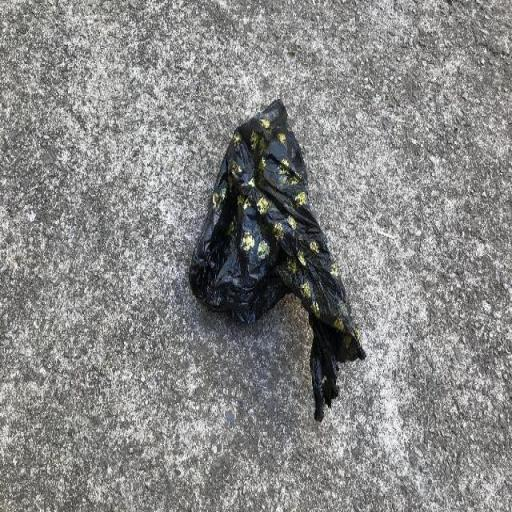plastic-bag: (185, 97, 369, 428)
